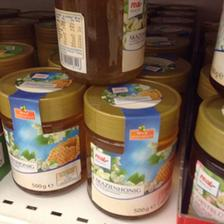Honig: (83, 76, 184, 216), (0, 64, 86, 196), (50, 0, 152, 80)
